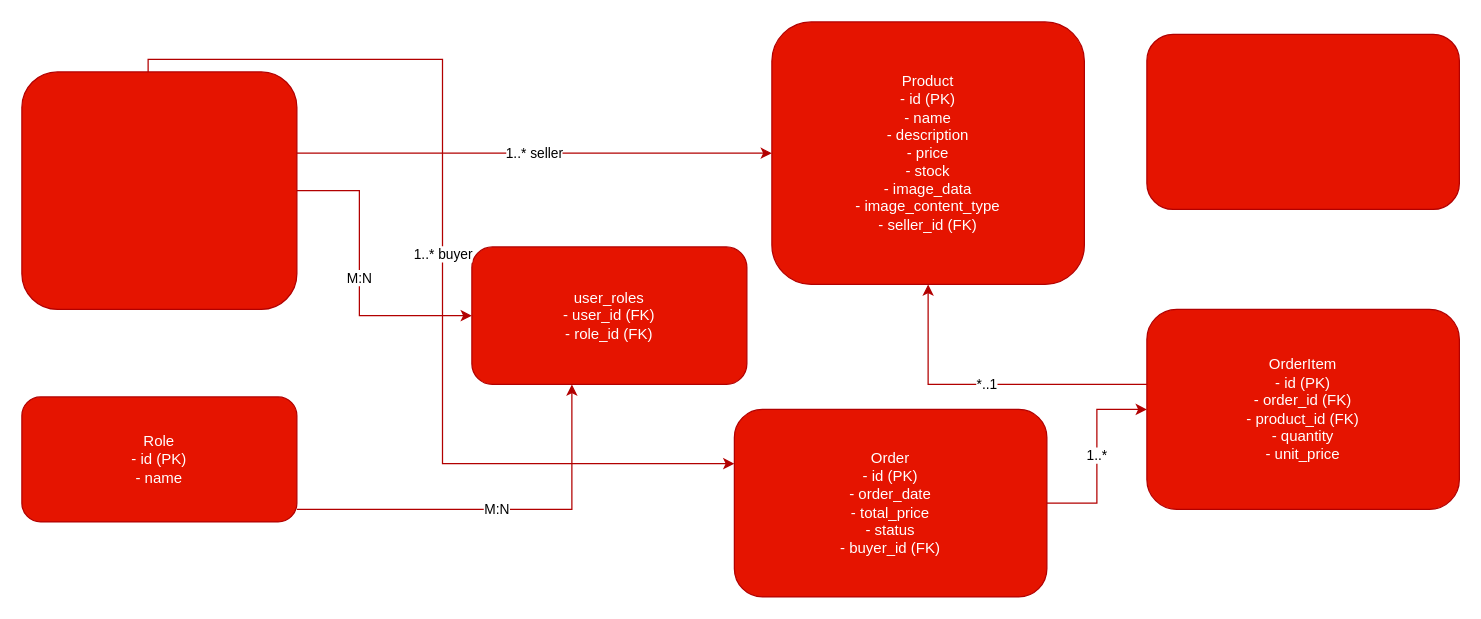
This 1481x619 diagram has some shape labels left out. Here are the shapes that lost their labels. From the top down, the box of each, then its label:
(1146, 33, 1459, 209): BlogPost - id (PK) - title - content - published - created_at
(21, 71, 297, 309): User - id (PK) - name - email - password - enabled - created_at - updated_at
